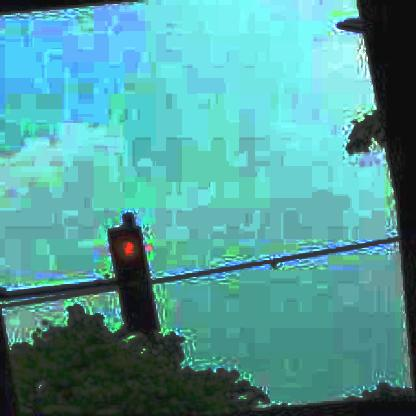Traffic Light -Red-: (111, 226, 160, 334)
